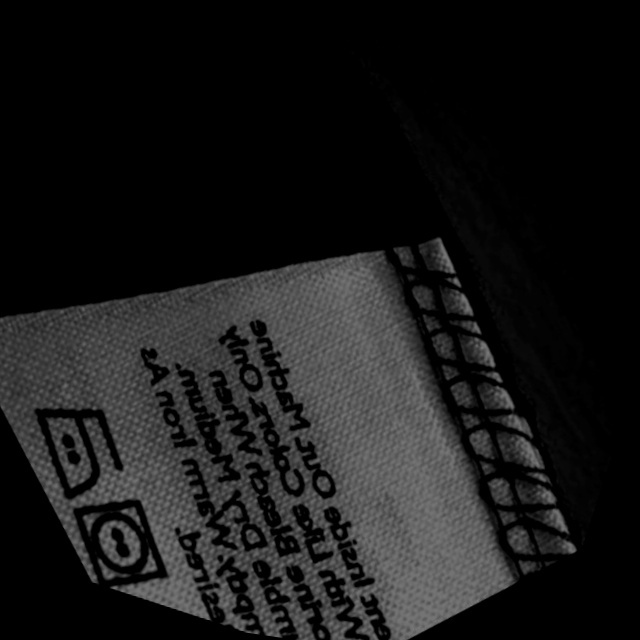iron_medium: (5, 385, 140, 511)
tumble_dry_medium: (50, 480, 187, 603)
